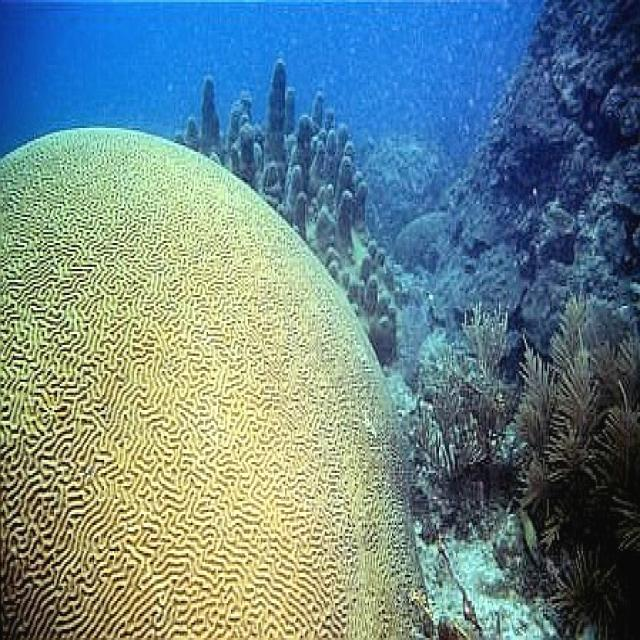Coral: (0, 126, 434, 638)
